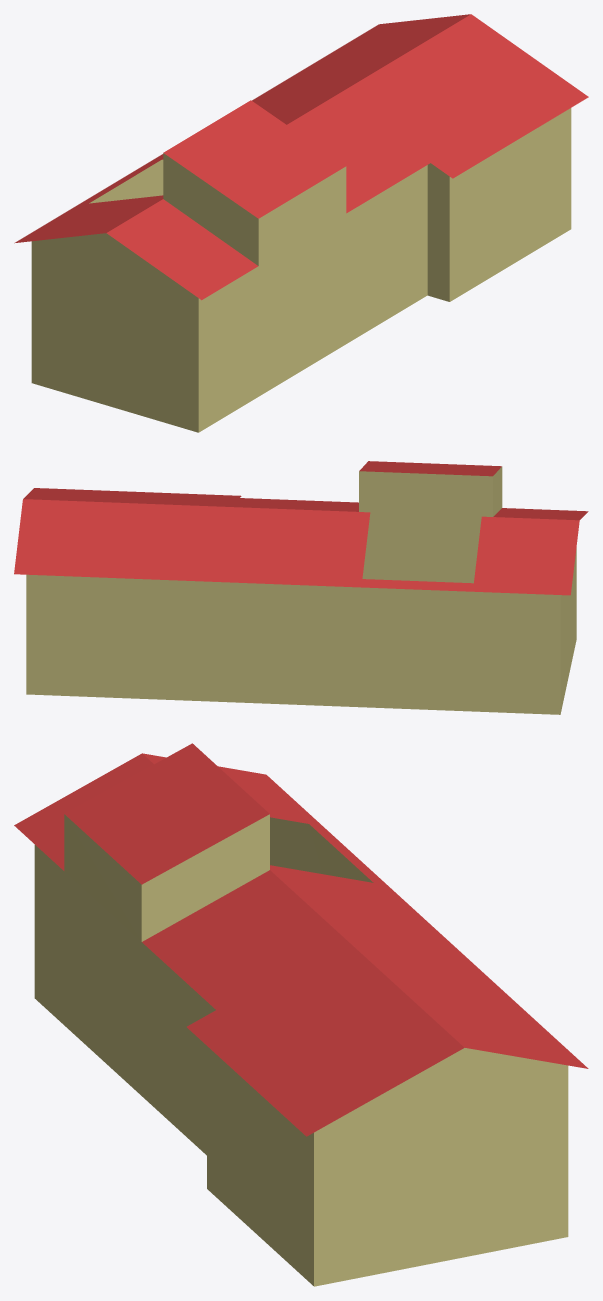
3 renders of one model, top to bottom at view 1: azimuth 30°, elevation 25°; view 2: azimuth 150°, elevation 25°; view 3: azimuth 270°, elevation 25°, orthographic. The views are drawn at different scales.
Size of the model in its own units: 40.04 by 27.82 by 14.55.
